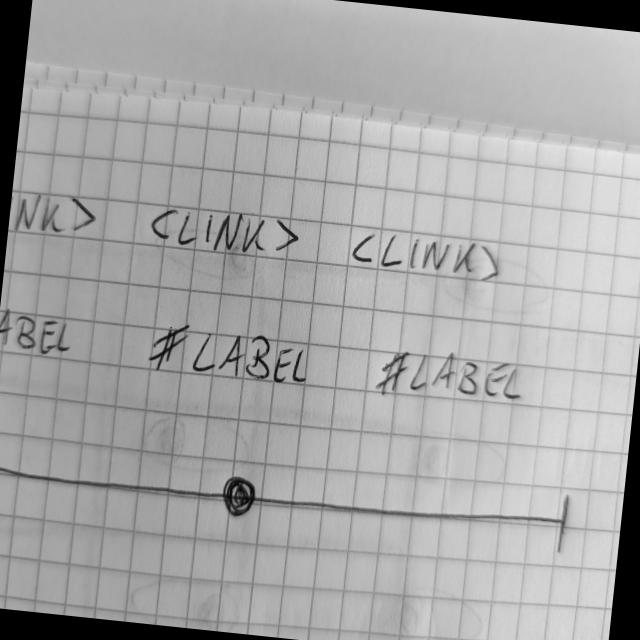label: (141, 314, 316, 392), (372, 340, 534, 413), (0, 298, 83, 361)
link: (344, 221, 506, 288), (144, 196, 306, 261), (7, 183, 101, 244)
slider: (0, 424, 576, 556)
